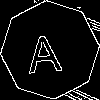A: (25, 25, 63, 74)
